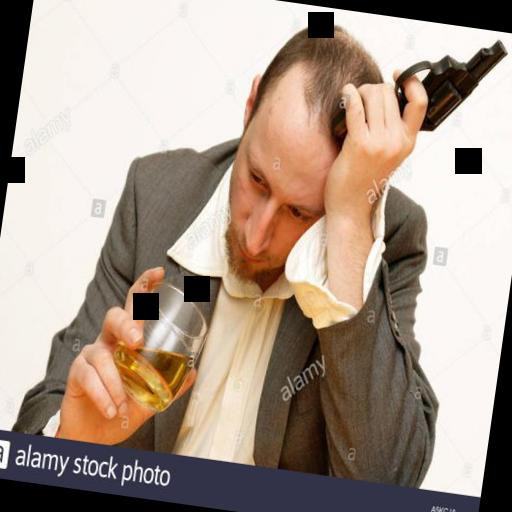Handgun: (320, 10, 510, 180)
